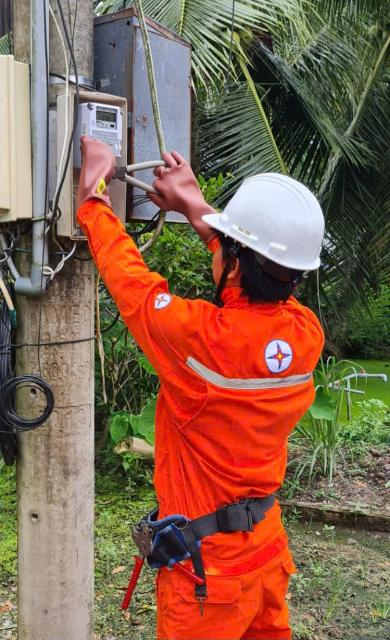gloves: (148, 141, 217, 245), (74, 135, 119, 221)
harness: (110, 471, 288, 558)
helmet: (203, 158, 339, 286)
